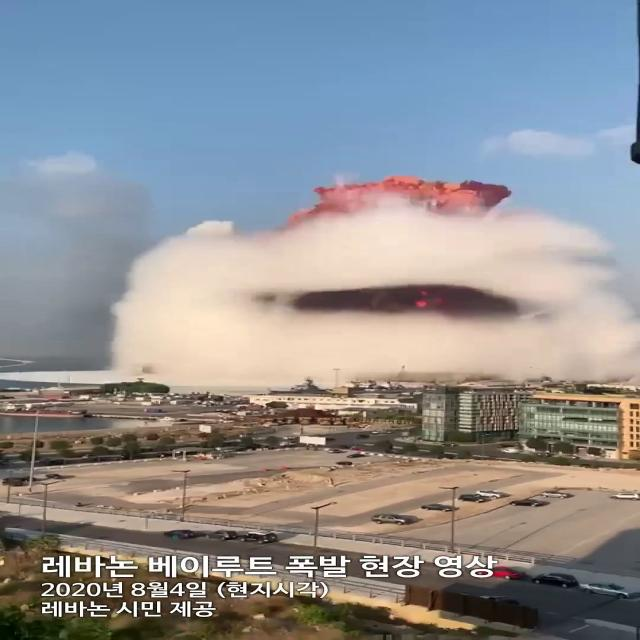explosion: (108, 181, 640, 411)
